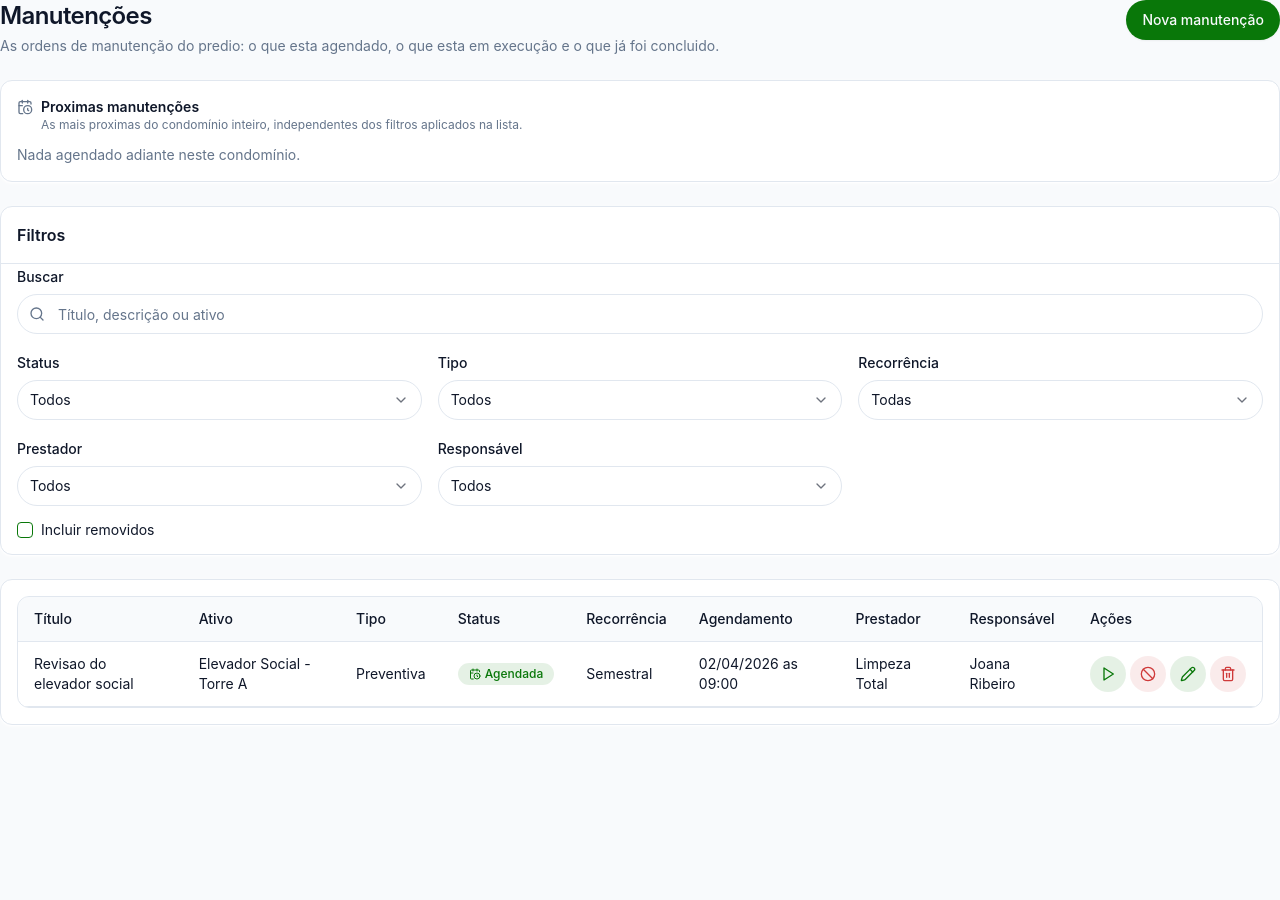
Test: Exclusao e restauração de manutenções › excluir pede confirmação antes de remover
Click the button named "Excluir Revisao do elevador social".
click(1228, 674)  # box [1210,656,1246,692]
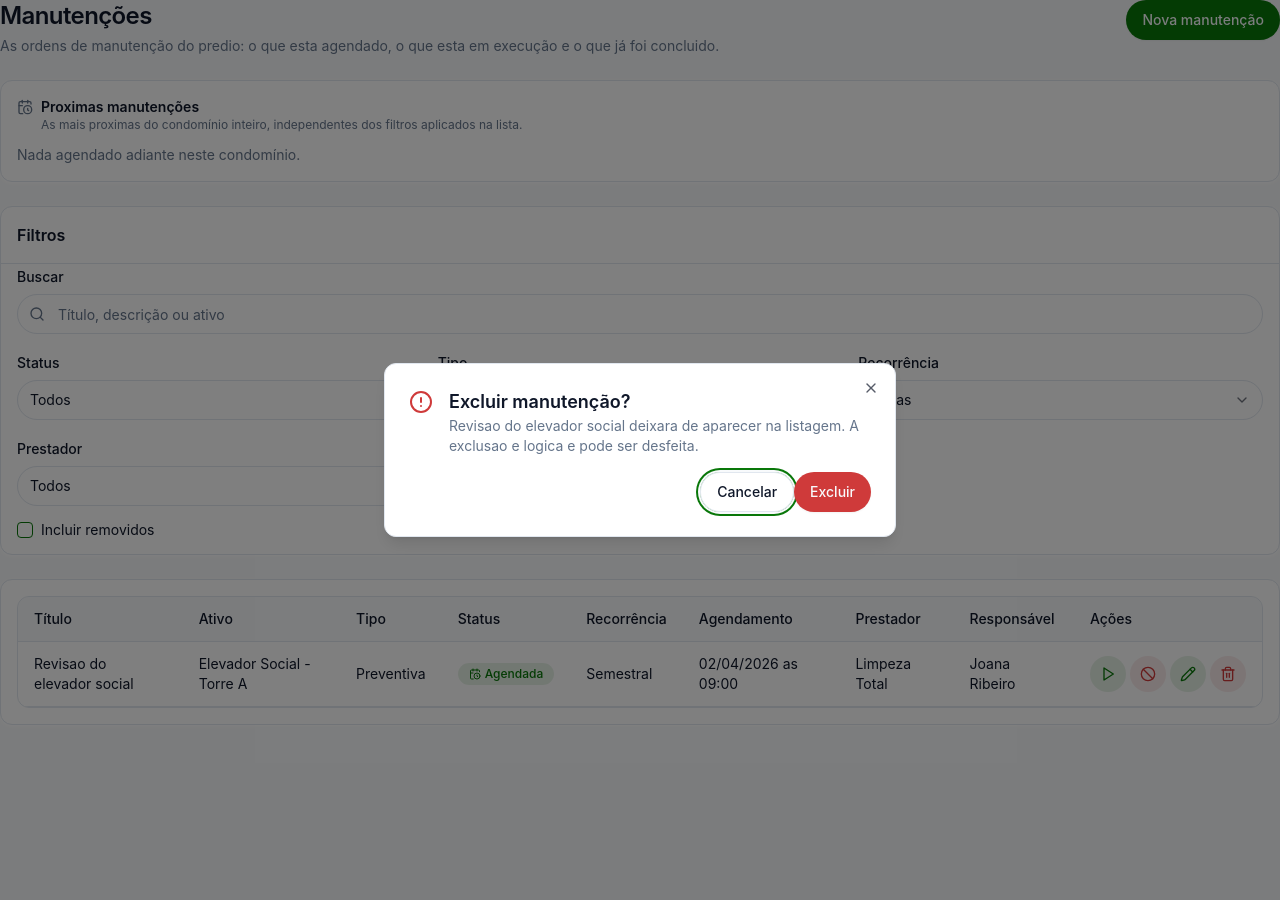
expect the heading "Excluir manutenção?" is shown: met, box [449,391,630,412]
Click the button "Excluir".
click(833, 492)  # box [794,472,871,512]
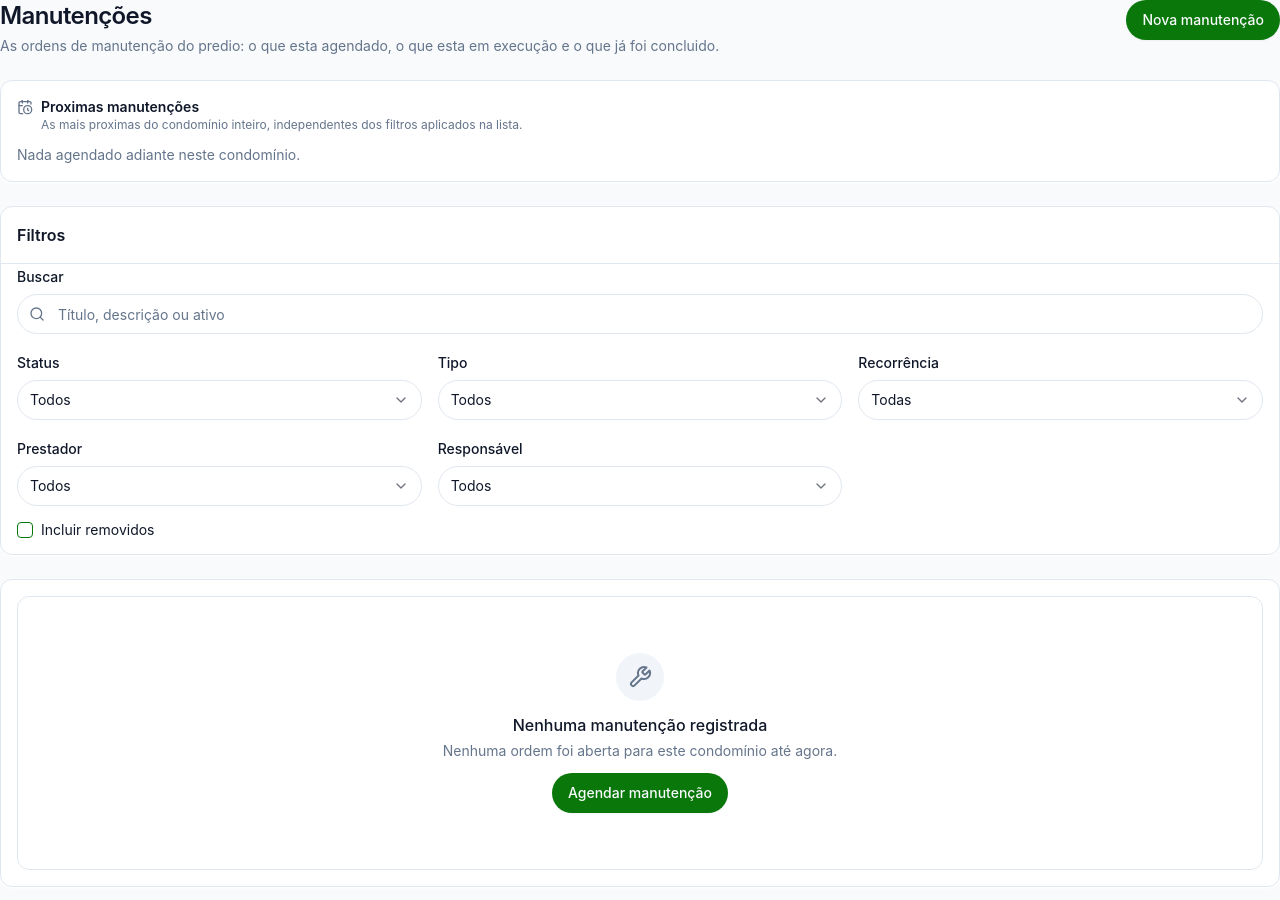
expect the text "Revisao do elevador social" is gone: met
